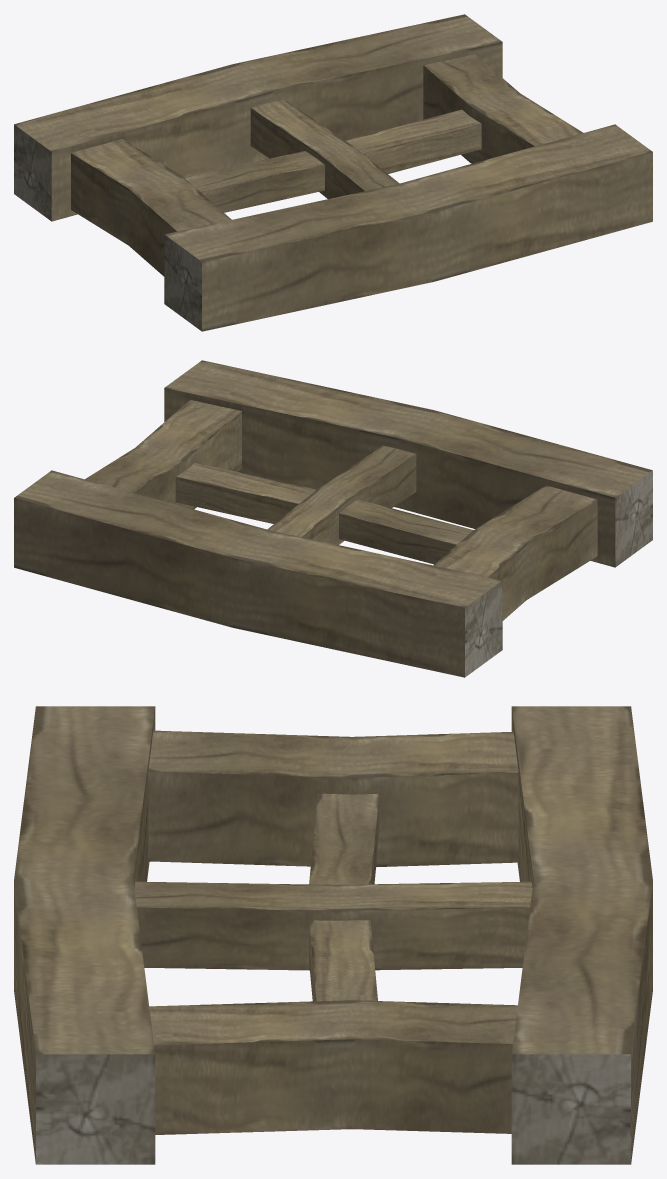
Rendered from Window_A.fbx.
The picture shows the model from 3 angles, top to bottom: view 1: azimuth 30°, elevation 25°; view 2: azimuth 150°, elevation 25°; view 3: azimuth 270°, elevation 25°; orthographic projection. The views are drawn at different scales.
Parts seen in each view (by area): view 1: Window_A; view 2: Window_A; view 3: Window_A.
Boxes of the visible parts, x1,y1,x2,y2 form: Window_A: (14, 14, 652, 331); Window_A: (14, 360, 652, 677); Window_A: (14, 706, 652, 1164).
Bounding box in the file's own units: 1.73 × 0.2555 × 1.34.
